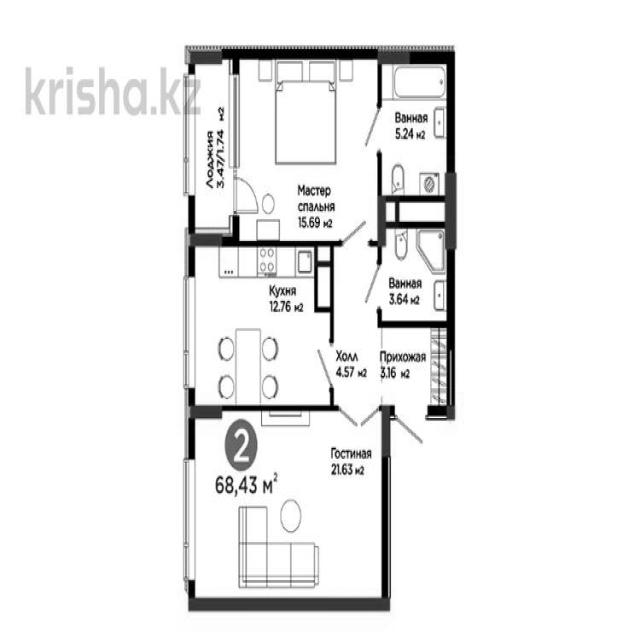balcony: (184, 49, 234, 232)
bathroom: (379, 52, 452, 196), (382, 226, 450, 325)
hallway: (335, 324, 450, 408)
kitchen: (190, 246, 332, 405)
living_room: (195, 410, 384, 603), (239, 51, 376, 242)
